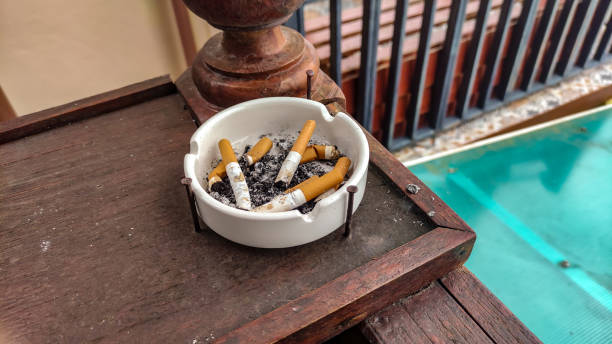cigarette: (252, 168, 345, 213), (273, 118, 316, 192), (217, 137, 252, 211), (313, 155, 353, 204), (269, 173, 320, 202), (241, 135, 274, 167), (209, 160, 227, 195), (298, 144, 319, 165), (313, 145, 338, 160)
